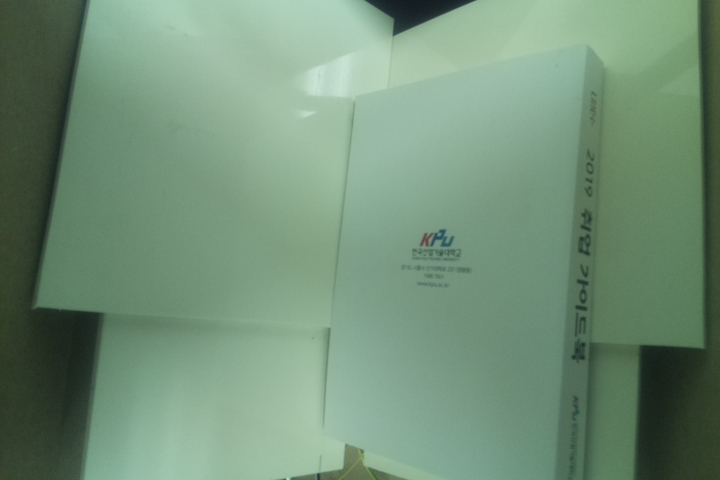book: (321, 39, 607, 480)
